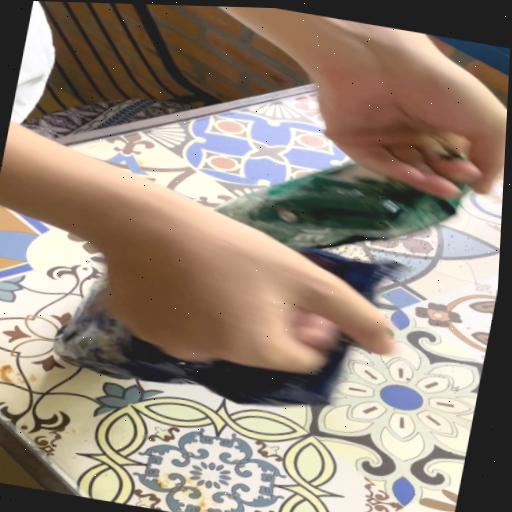cafe_hat: (55, 280, 351, 406), (300, 249, 399, 300)
cafe_xay: (217, 162, 460, 248)
